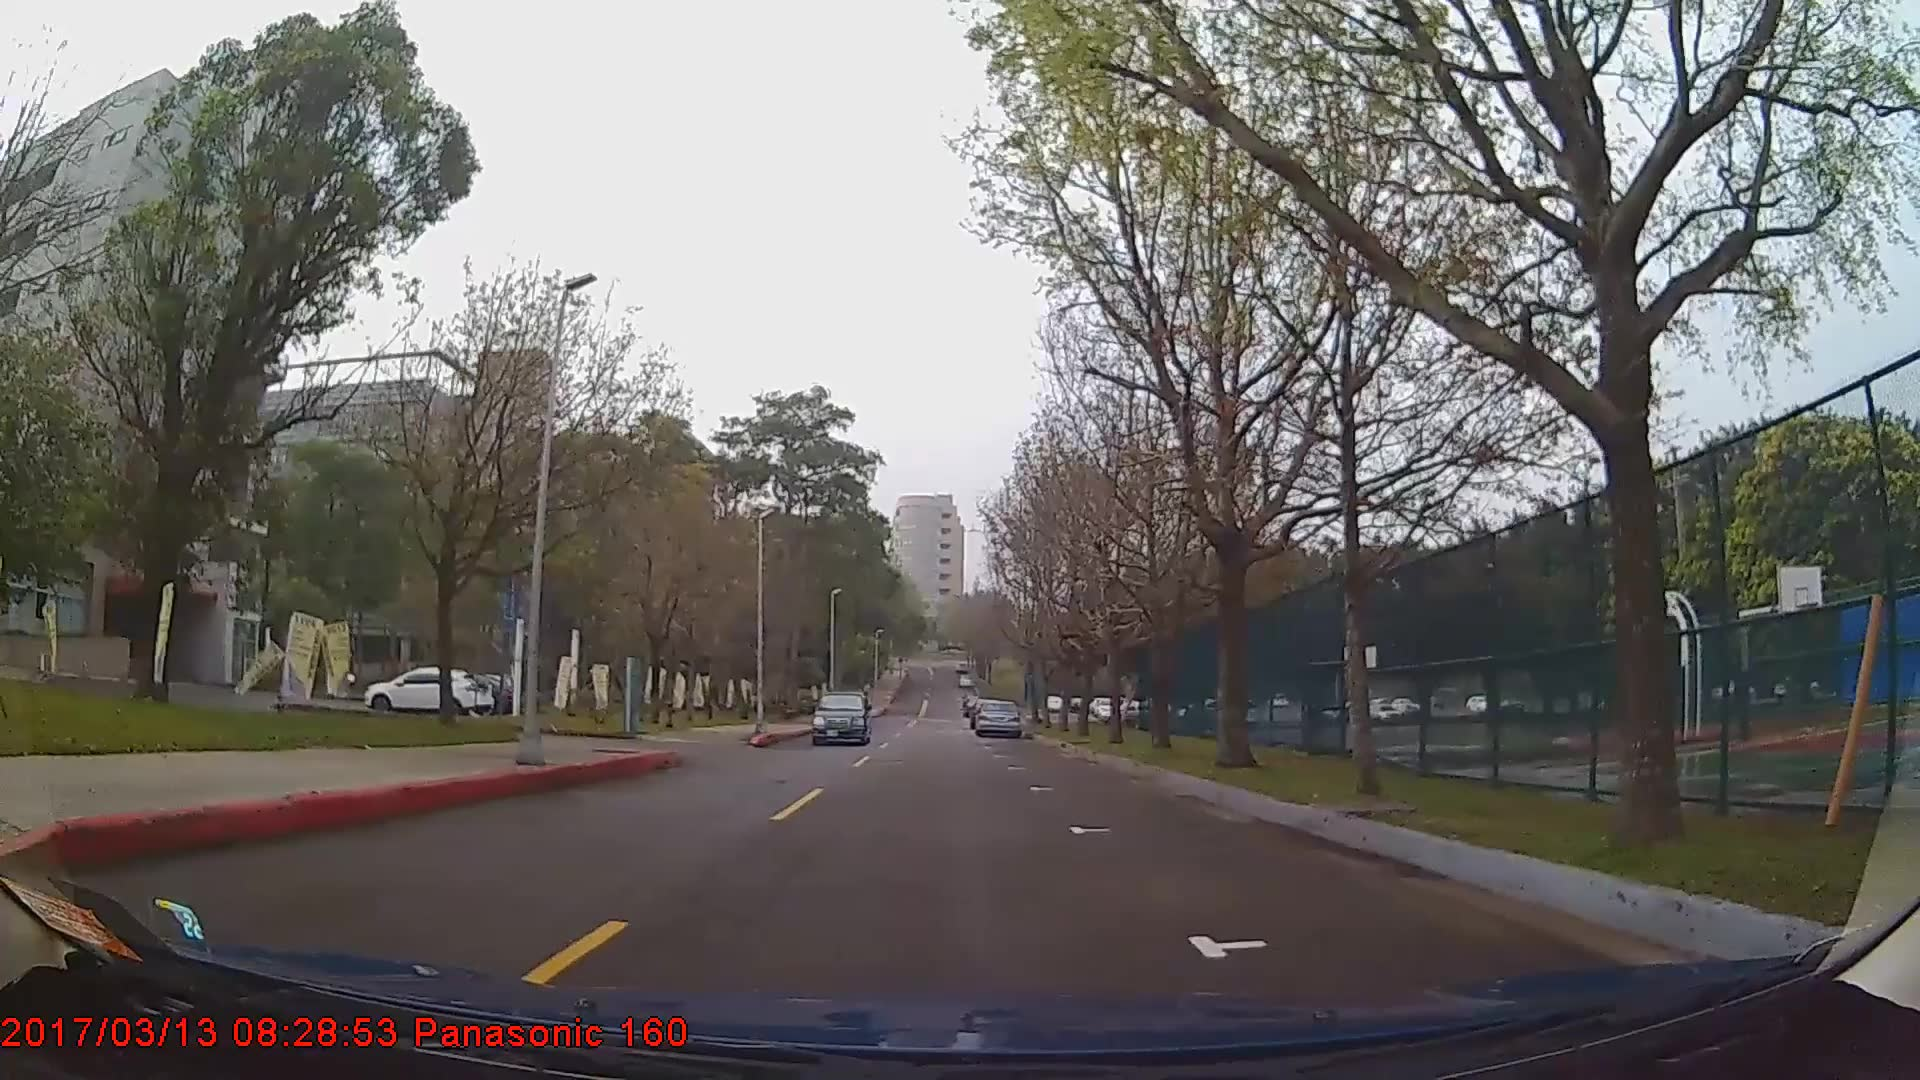vehicle: (361, 661, 489, 716), (808, 690, 868, 746), (971, 698, 1017, 738)
